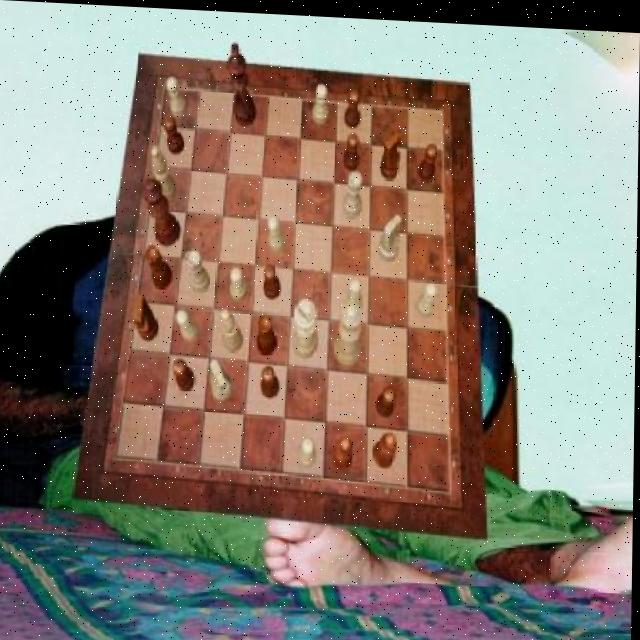bishop: (374, 428, 398, 465), (331, 432, 354, 469)
black-bishop: (227, 40, 258, 124)
black-king: (135, 293, 160, 340), (380, 127, 400, 176)
black-knight: (164, 114, 185, 154), (173, 358, 196, 391), (418, 139, 437, 178), (343, 85, 361, 126), (377, 382, 397, 415), (344, 129, 360, 168), (263, 262, 280, 297), (263, 363, 281, 396)
black-pawn: (140, 177, 181, 246)
black-queen: (144, 243, 172, 288), (257, 312, 278, 355)
black-rook: (150, 145, 177, 201), (219, 306, 243, 349)
white-bishop: (293, 295, 318, 356)
white-king: (377, 209, 401, 258), (209, 356, 233, 400)
white-knight: (166, 74, 187, 115), (177, 306, 201, 341), (417, 277, 438, 314), (313, 80, 330, 121), (345, 273, 363, 311), (267, 213, 285, 251), (231, 265, 248, 300), (298, 432, 316, 465)
white-pawn: (335, 298, 363, 363)
white-queen: (185, 246, 211, 291), (343, 168, 363, 215)
